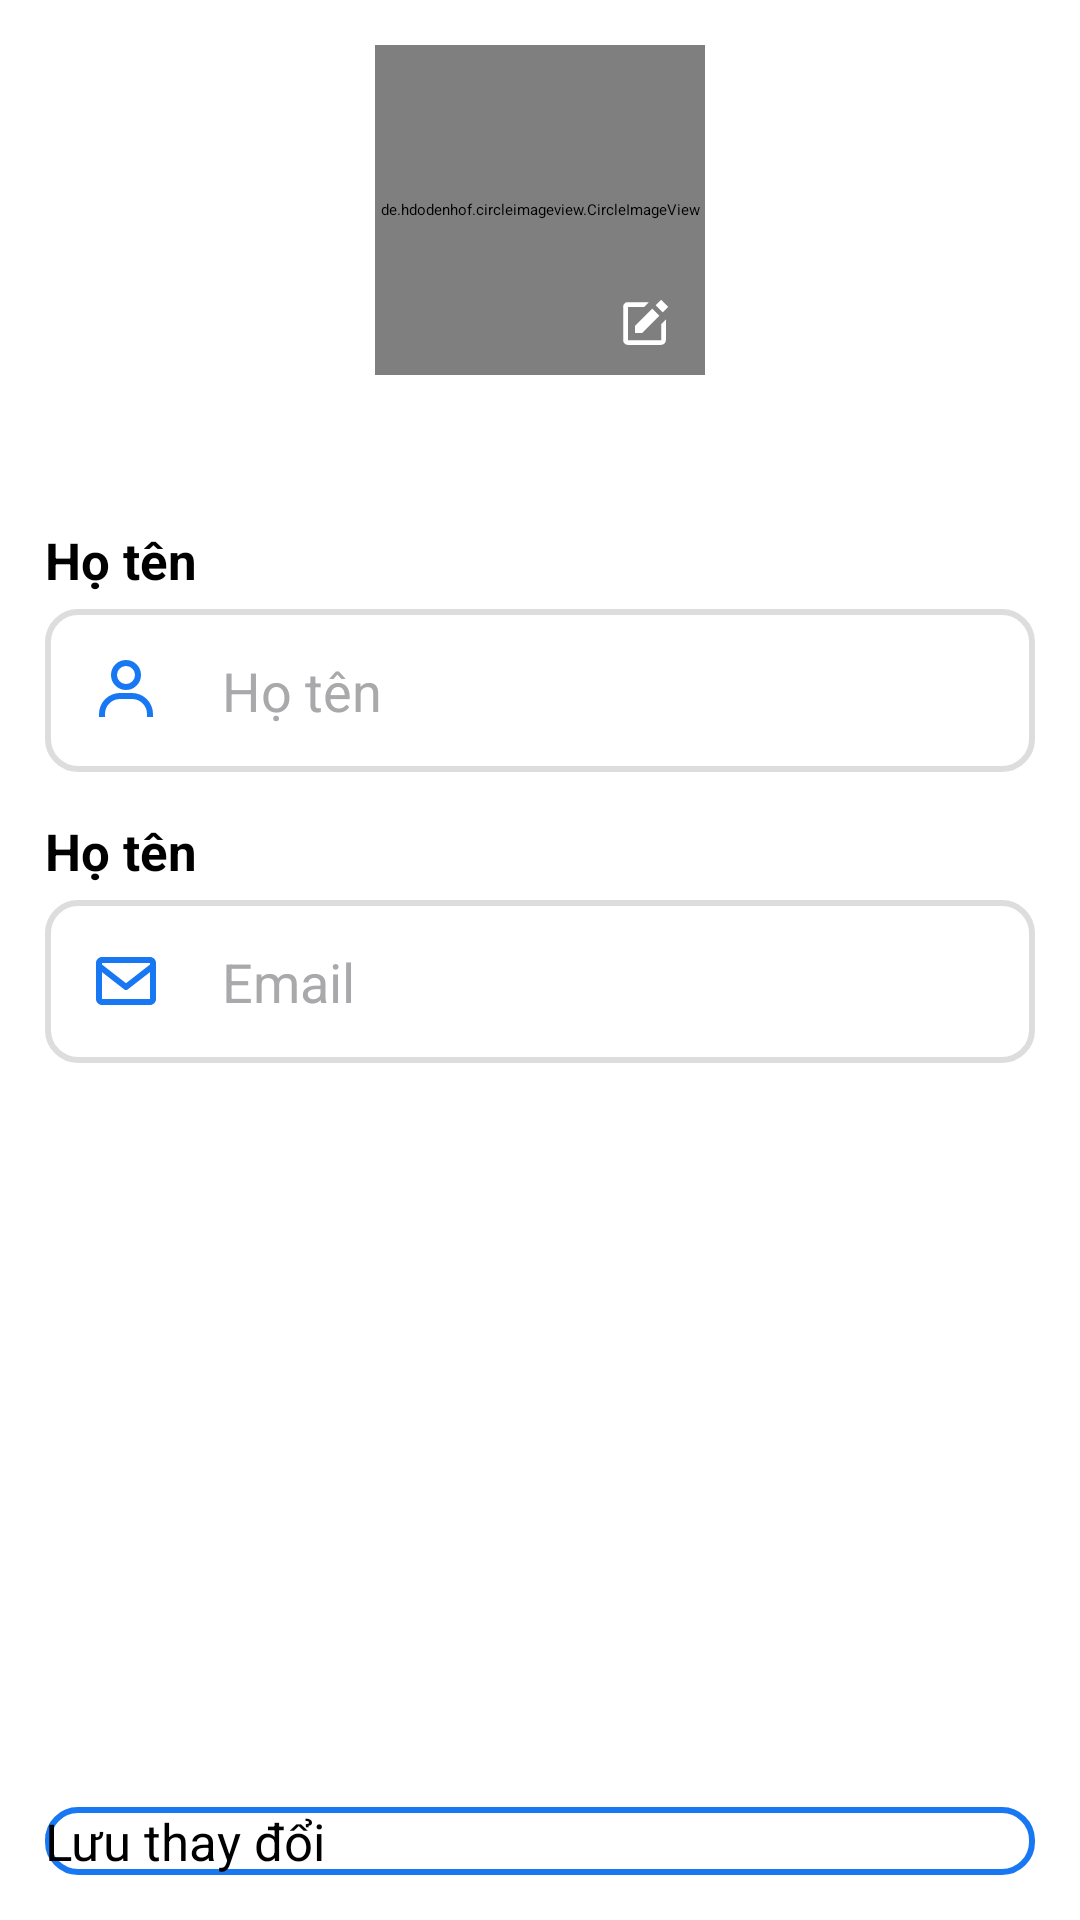

Screen size 1080px×1920px. Icon name, then its box in pixels as (x1, y1, x2, y2):
bxs edit: (623, 300, 668, 345)
